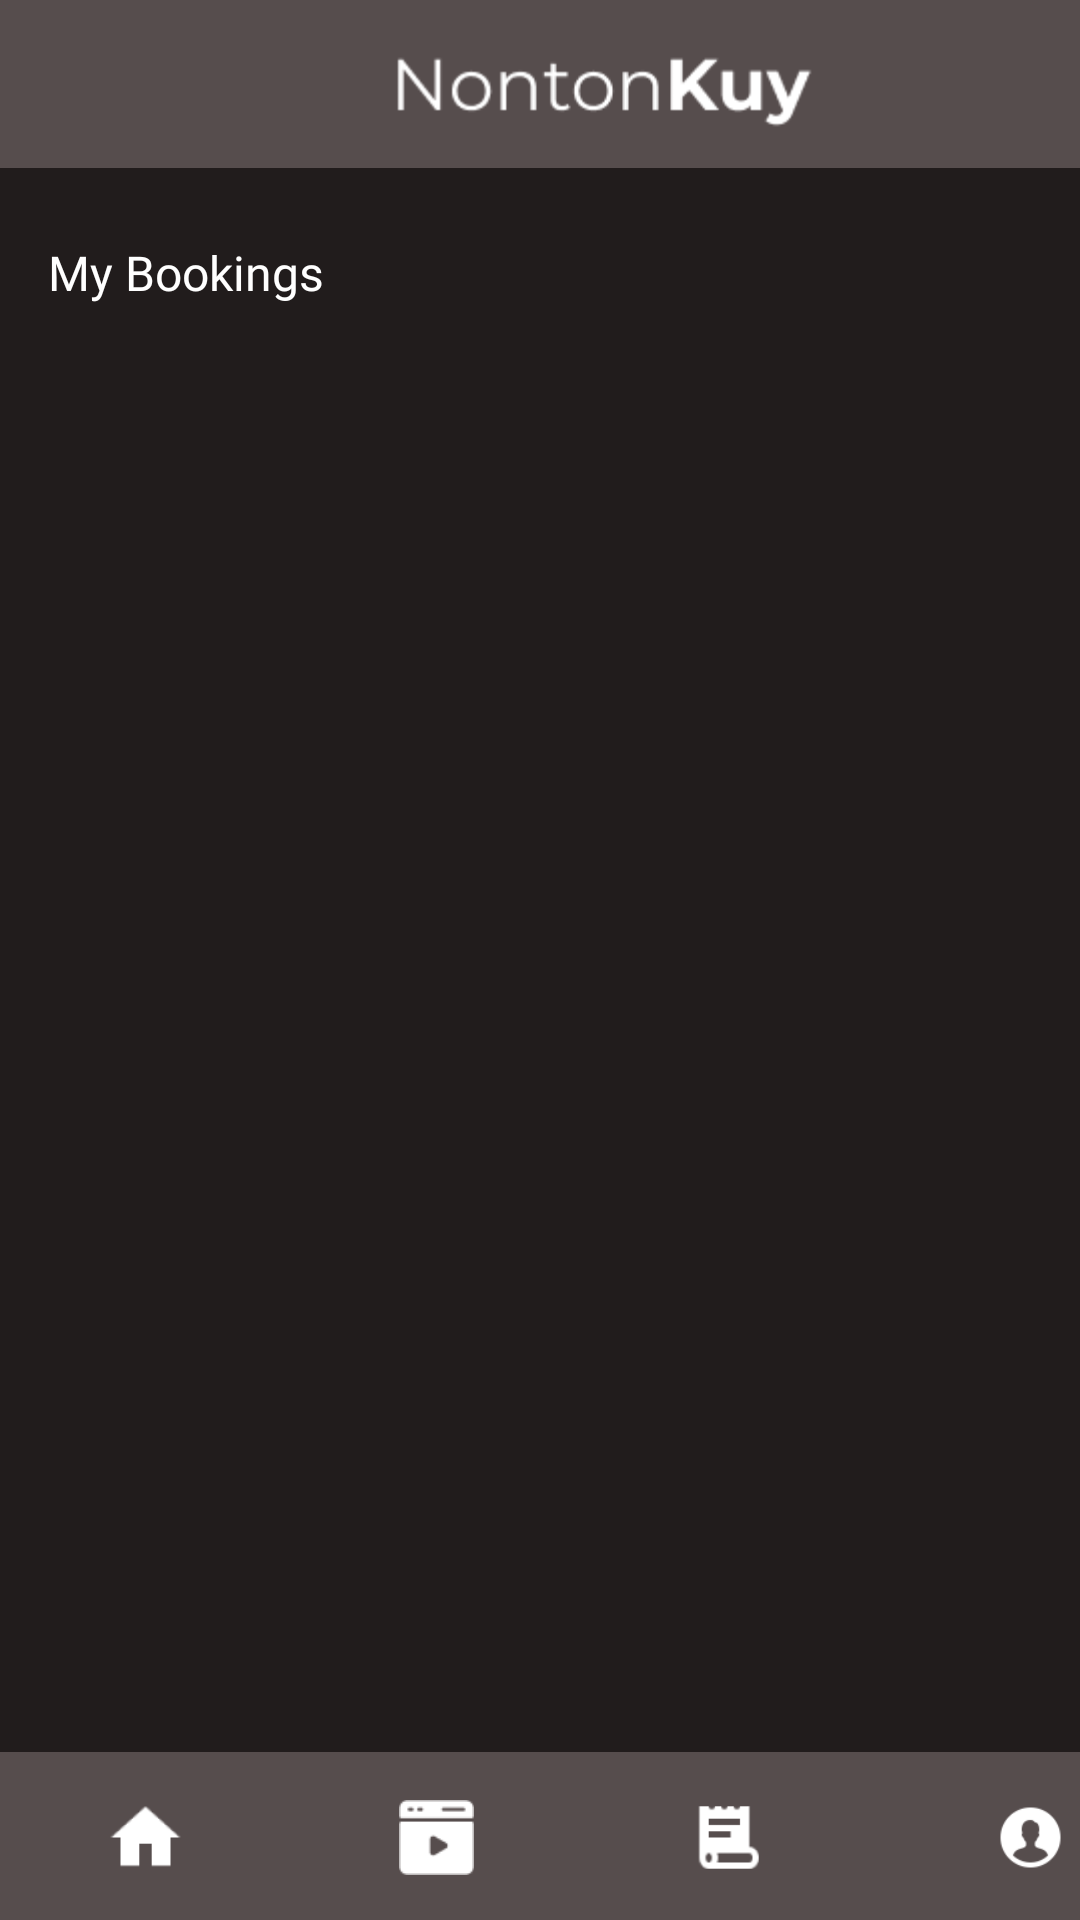

Icons on this 1080w x 1920h Android screen, each with its box as (x1, y1, x2, y2):
akun: (1000, 1807, 1061, 1868)
history: (698, 1806, 759, 1869)
home: (111, 1806, 180, 1867)
movies: (399, 1800, 474, 1875)
